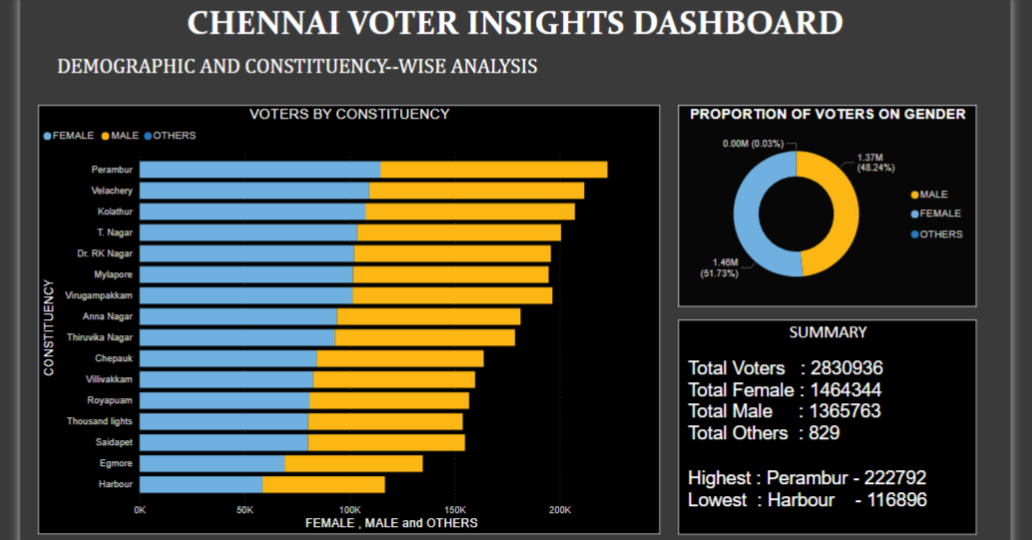

Layout of this report page (visuals, bound fields, positions):
{"tool":"powerbi","page":{"name":"Page 1","canvas":[1280,720],"ordinal":0},"visuals":[{"type":"donutChart","title":"PROPORTION OF VOTERS ON GENDER","fields":{"Y":["Sum(Sheet1.MALE)","Sum(Sheet1.FEMALE )","Sum(Sheet1.OTHERS)"]},"box":[850.4,141.7,385.5,260.8],"z":0},{"type":"barChart","title":"VOTERS BY CONSTITUENCY","fields":{"Category":["Sheet1.CONSITITUENCY"],"Y":["Sum(Sheet1.FEMALE )","Sum(Sheet1.MALE)","Sum(Sheet1.OTHERS)"]},"box":[23.2,141.9,803.9,554.8],"z":1000},{"type":"textbox","title":"CHENNAI VOTER INSIGHTS  DASHBOARD","box":[0,8.5,1279.8,43.9],"z":2000},{"type":"textbox","title":"DEMOGRAPHIC AND CONSTITUENCY--WISE ANALYSIS  ANALYSIS","box":[42.5,75.8,644.7,27.9],"z":3000},{"type":"textbox","title":"SUMMARY","box":[850.4,419.5,385.5,277.8],"z":4000}]}

Visuals, with their boxes on the page's 1280x720 design canvas (x1, y1, x2, y2). These are canvas units, not pixel positions in the 1032x540 screenshot, which may show the page scaled, cropped or inside an application window:
"PROPORTION OF VOTERS ON GENDER" donutChart: bbox=(850, 142, 1236, 402)
"VOTERS BY CONSTITUENCY" barChart: bbox=(23, 142, 827, 697)
"CHENNAI VOTER INSIGHTS  DASHBOARD" textbox: bbox=(0, 8, 1280, 52)
"DEMOGRAPHIC AND CONSTITUENCY--WISE ANALYSIS  ANALYSIS" textbox: bbox=(42, 76, 687, 104)
"SUMMARY" textbox: bbox=(850, 420, 1236, 697)
